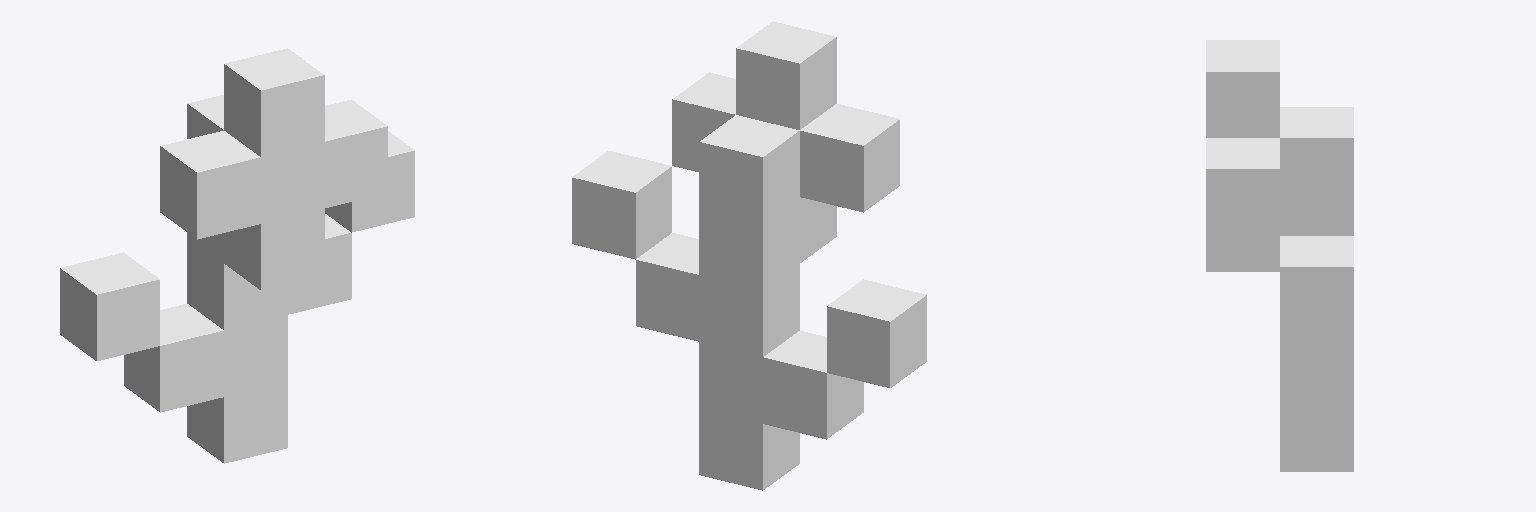
File: Flower_5.obj
The picture shows the model from 3 angles: view 1: azimuth 30°, elevation 25°; view 2: azimuth 150°, elevation 25°; view 3: azimuth 270°, elevation 25°; orthographic projection.
Visible parts, largest first — view 1: Flower_5; view 2: Flower_5; view 3: Flower_5.
Boxes of the visible parts, x1,y1,x2,y2 form: Flower_5: [60, 48, 414, 463]; Flower_5: [572, 21, 926, 490]; Flower_5: [1206, 40, 1353, 471].
Size of the model in its own units: 0.2 by 0.24 by 0.08.